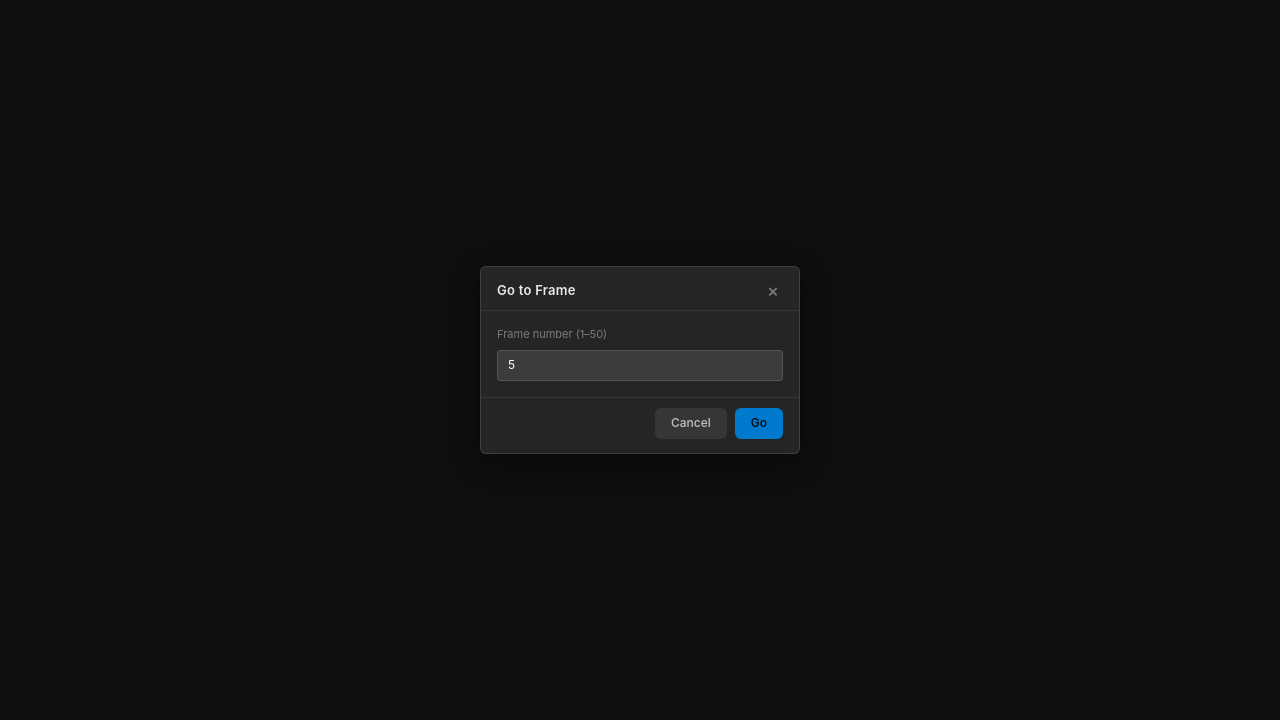
Test: GoToFrameDialog › shows error for out-of-range frame number
Replace the text in the number field with "999" at point(640, 365), box x1=497 y1=350 x2=783 y2=381
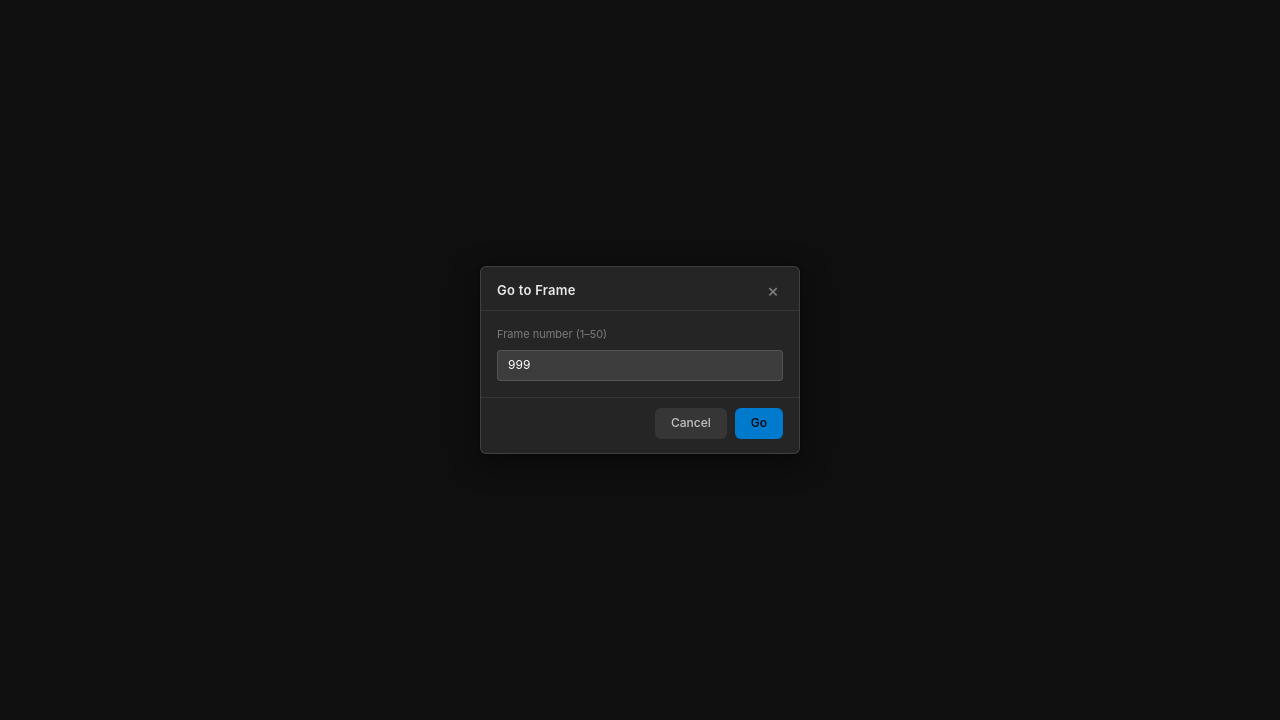
Click the button "Go" at point(759, 423), box x1=735 y1=408 x2=783 y2=439
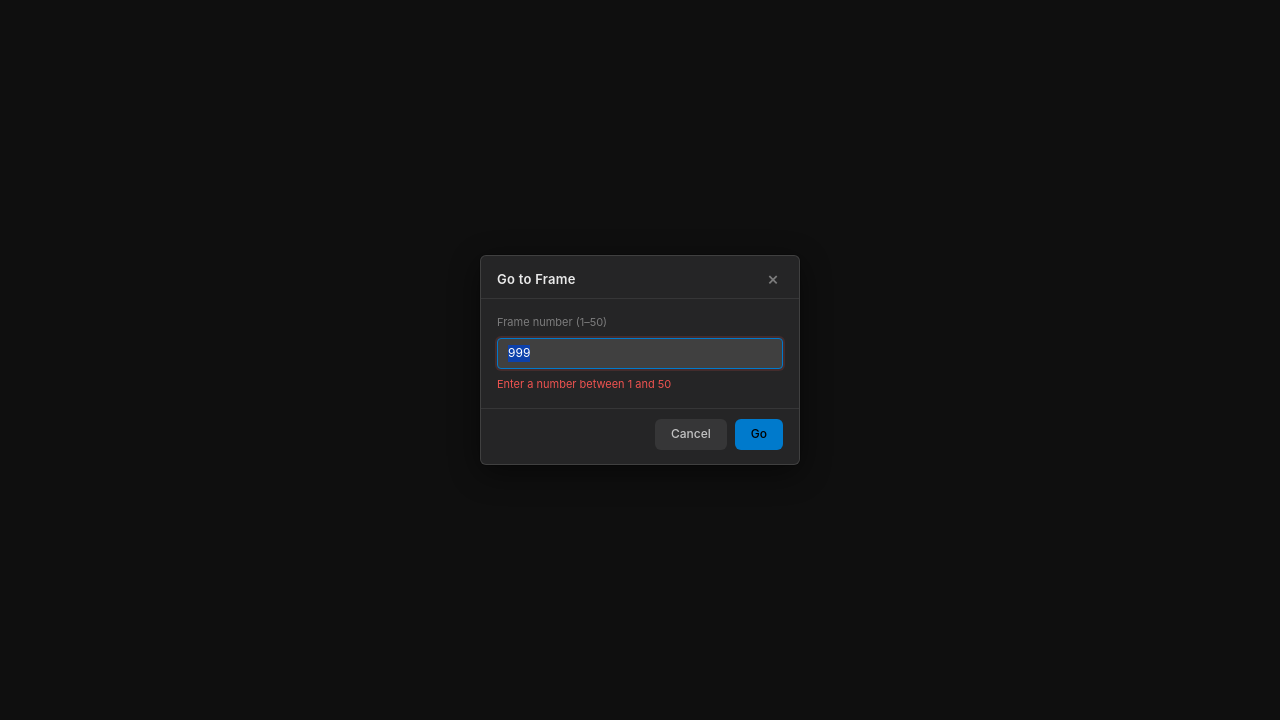
Expected: the message shows "50", x1=497 y1=377 x2=671 y2=391
